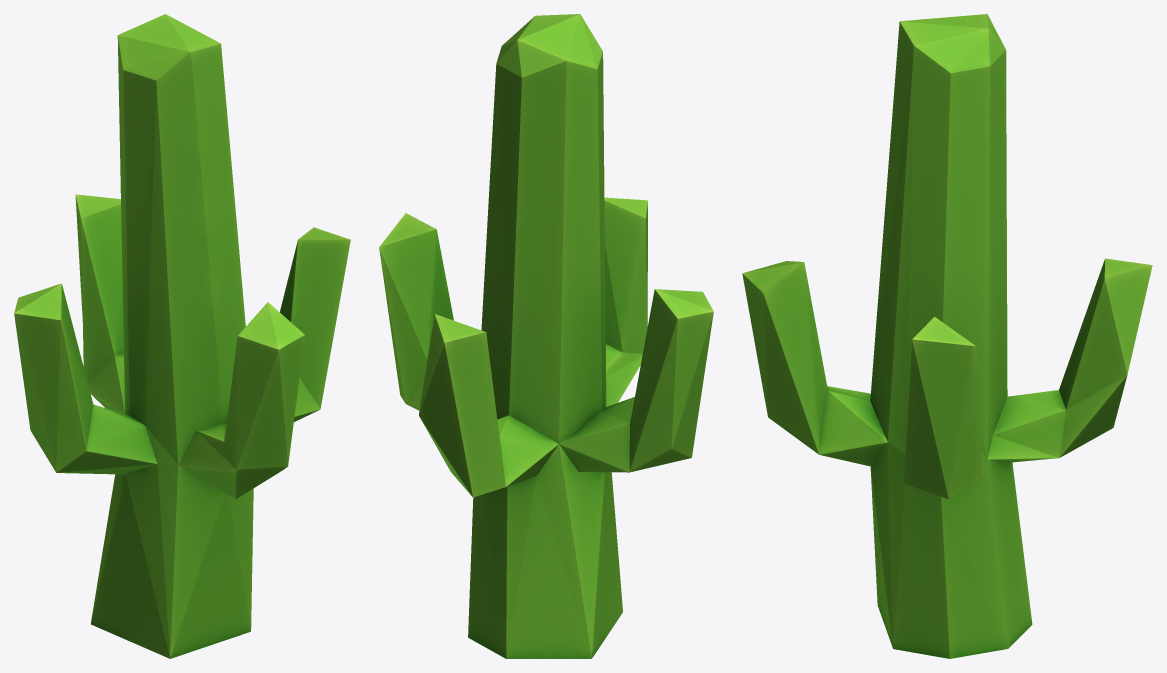
Rendered from Cactus_24.fbx.
The picture shows the model from 3 angles, left to right: view 1: azimuth 30°, elevation 25°; view 2: azimuth 150°, elevation 25°; view 3: azimuth 270°, elevation 25°; orthographic projection.
Parts seen in each view (by area): view 1: Cactus_24; view 2: Cactus_24; view 3: Cactus_24.
Part boxes in pixels (x1,y1,x2,y2): Cactus_24: (14,14,350,658); Cactus_24: (379,14,713,658); Cactus_24: (742,14,1152,658).
Bounding box in the file's own units: 34.21 × 37.4 × 60.47.
Materials: 1 (1 with a texture image).
